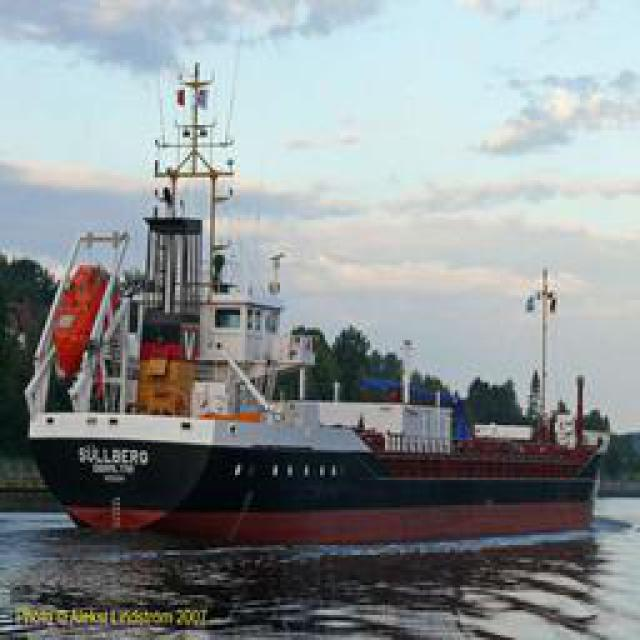Ship: (31, 35, 571, 548)
